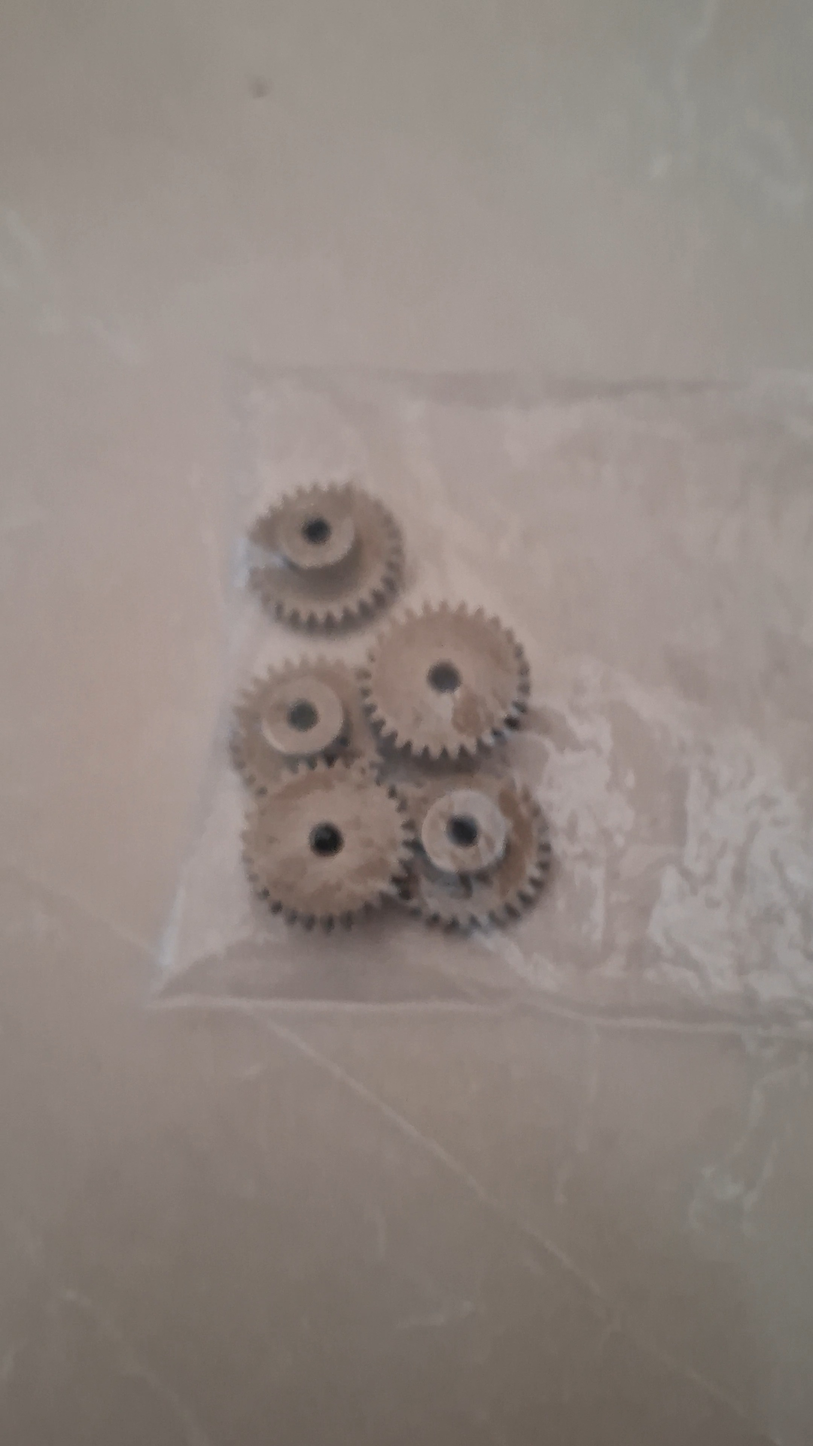spur gear: (243, 761, 413, 928), (360, 604, 529, 759), (400, 774, 551, 930), (250, 483, 402, 631), (230, 659, 374, 796)
